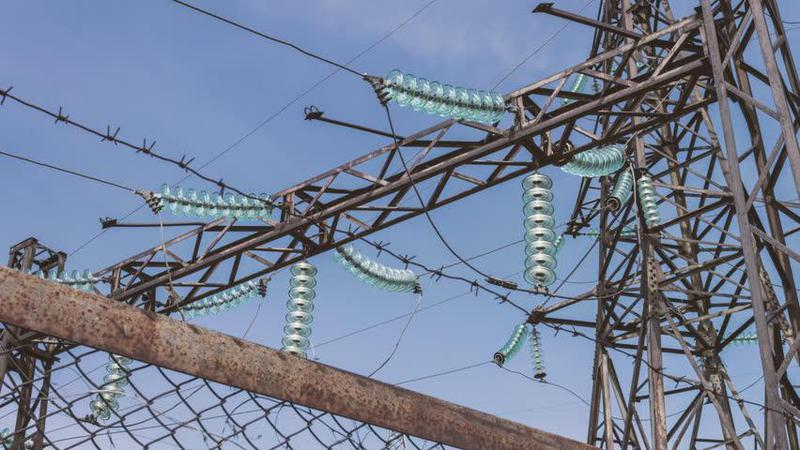isolator: (382, 68, 505, 124), (154, 182, 273, 222), (519, 171, 558, 286), (331, 242, 416, 294), (278, 261, 319, 359), (174, 279, 261, 319), (88, 351, 135, 422), (558, 144, 626, 178), (25, 266, 95, 292), (495, 323, 526, 364), (636, 175, 661, 225), (607, 172, 633, 209), (559, 73, 587, 107), (527, 331, 547, 378), (726, 330, 758, 346), (590, 78, 601, 94), (586, 228, 599, 240)
